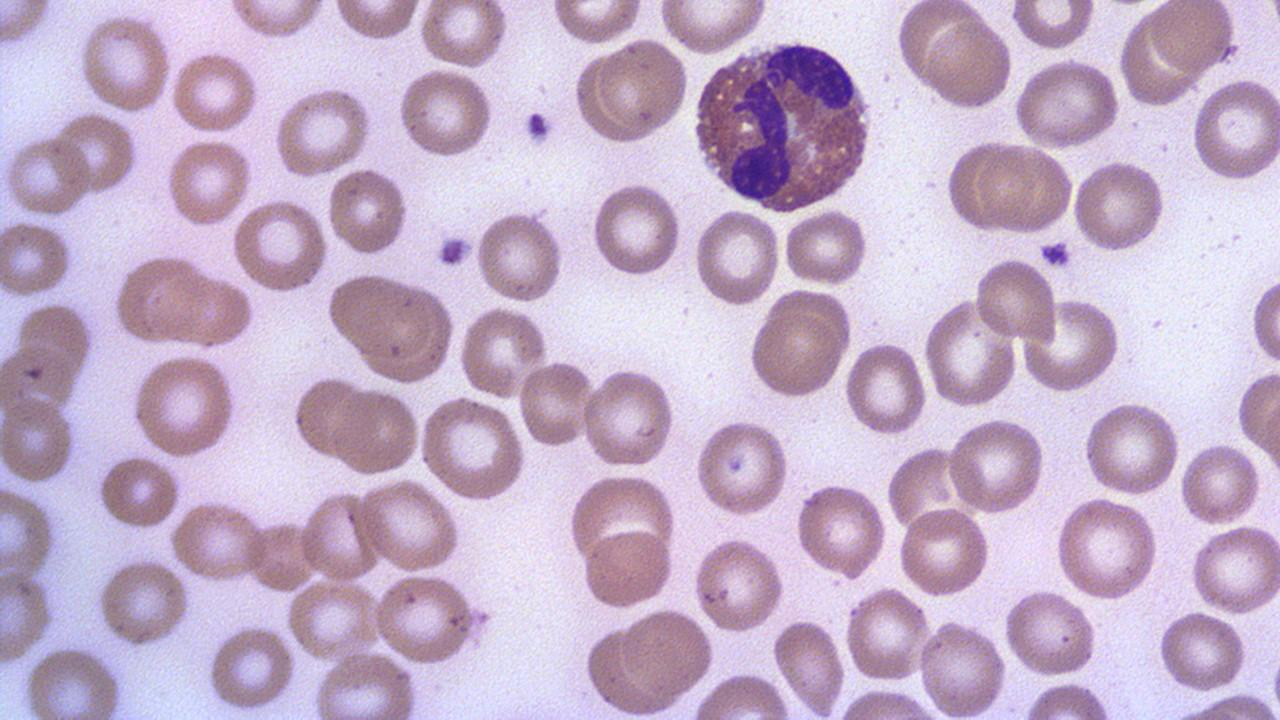Platelets: (435, 229, 476, 270), (1037, 238, 1075, 268)
RBC: (323, 269, 451, 379), (418, 394, 530, 503), (128, 353, 239, 458), (1054, 494, 1160, 602), (922, 297, 1018, 410), (944, 414, 1048, 516), (1018, 295, 1124, 395), (1010, 57, 1120, 152), (580, 364, 676, 471), (568, 472, 677, 565), (354, 479, 463, 572), (691, 534, 787, 638), (695, 416, 791, 519), (370, 573, 477, 665), (232, 196, 331, 295), (1081, 398, 1181, 496), (792, 480, 888, 582), (78, 12, 173, 114), (915, 616, 1010, 718), (273, 84, 373, 179), (692, 205, 782, 310), (1191, 77, 1279, 184), (1071, 157, 1167, 255), (582, 624, 683, 717), (746, 308, 849, 399), (397, 66, 496, 160), (590, 180, 682, 281), (842, 584, 933, 686), (596, 36, 689, 135), (1002, 588, 1102, 680), (456, 303, 550, 400), (895, 506, 992, 600), (111, 254, 210, 346), (842, 336, 928, 441), (473, 206, 565, 304), (618, 607, 716, 698), (1118, 7, 1206, 108), (981, 142, 1077, 234), (169, 498, 272, 582), (1187, 523, 1280, 616), (96, 558, 190, 648), (579, 525, 677, 611), (284, 578, 384, 662), (924, 16, 1012, 111), (163, 138, 254, 229), (944, 138, 1029, 235), (205, 623, 297, 712), (1155, 608, 1249, 695), (169, 48, 260, 137), (153, 270, 256, 347), (333, 386, 421, 476), (973, 254, 1059, 345), (298, 489, 382, 582), (326, 165, 410, 258), (52, 110, 141, 197), (772, 615, 848, 716), (895, 1, 980, 91), (2, 134, 91, 218), (782, 206, 872, 288), (516, 357, 594, 451), (1179, 440, 1261, 528), (21, 648, 125, 716), (0, 394, 77, 485), (312, 650, 416, 716), (291, 375, 370, 461), (96, 454, 180, 532), (418, 0, 510, 71), (1148, 1, 1236, 75), (656, 1, 769, 56), (0, 346, 79, 424), (0, 218, 75, 299), (0, 485, 57, 582), (0, 568, 54, 667), (1008, 1, 1098, 53), (1236, 365, 1280, 462), (550, 1, 644, 46), (225, 0, 330, 39), (329, 1, 422, 42), (1248, 270, 1280, 370), (1, 2, 52, 52)
WBC: (691, 33, 882, 209)
